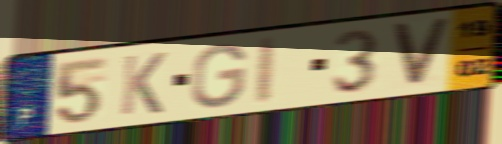3: (330, 27, 382, 95)
5: (54, 55, 111, 127)
G: (189, 42, 250, 111)
I: (253, 34, 282, 106)
K: (117, 50, 169, 118)
V: (389, 16, 454, 88)
